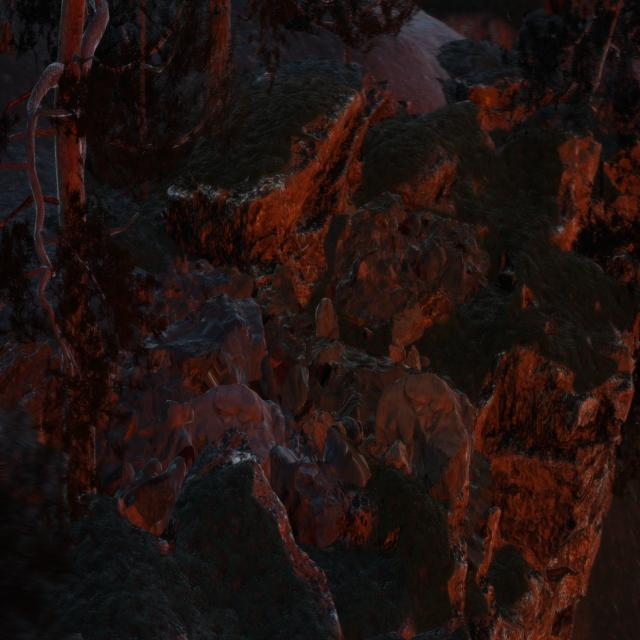Human: (309, 419, 380, 496)
